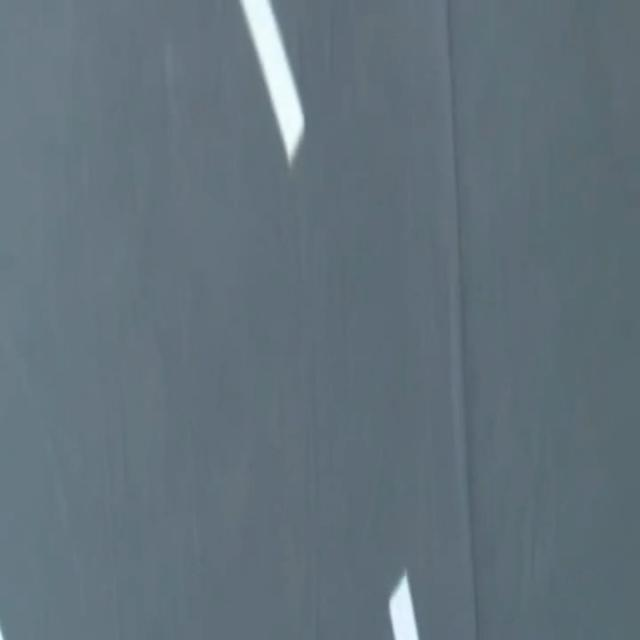center: (388, 571, 419, 639)
left: (0, 627, 4, 639)
